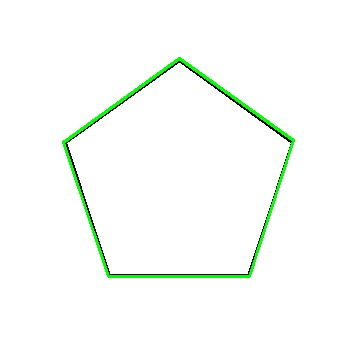line_segment: (63, 58, 295, 277)
